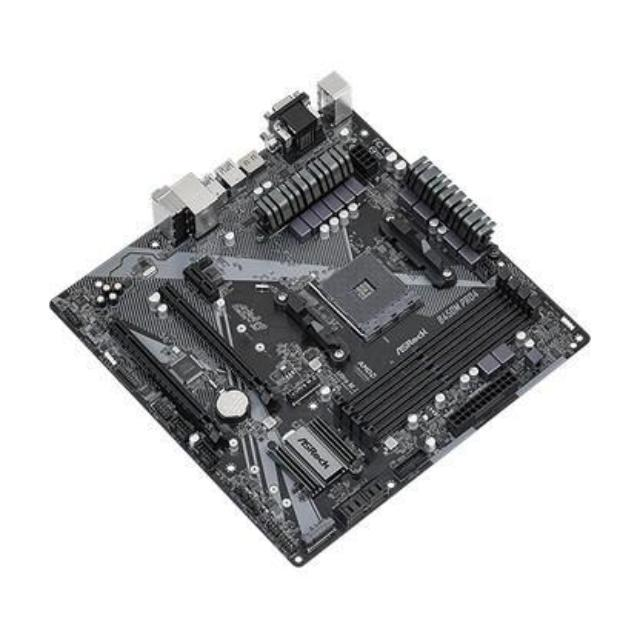Mainboard: (49, 75, 597, 573)
